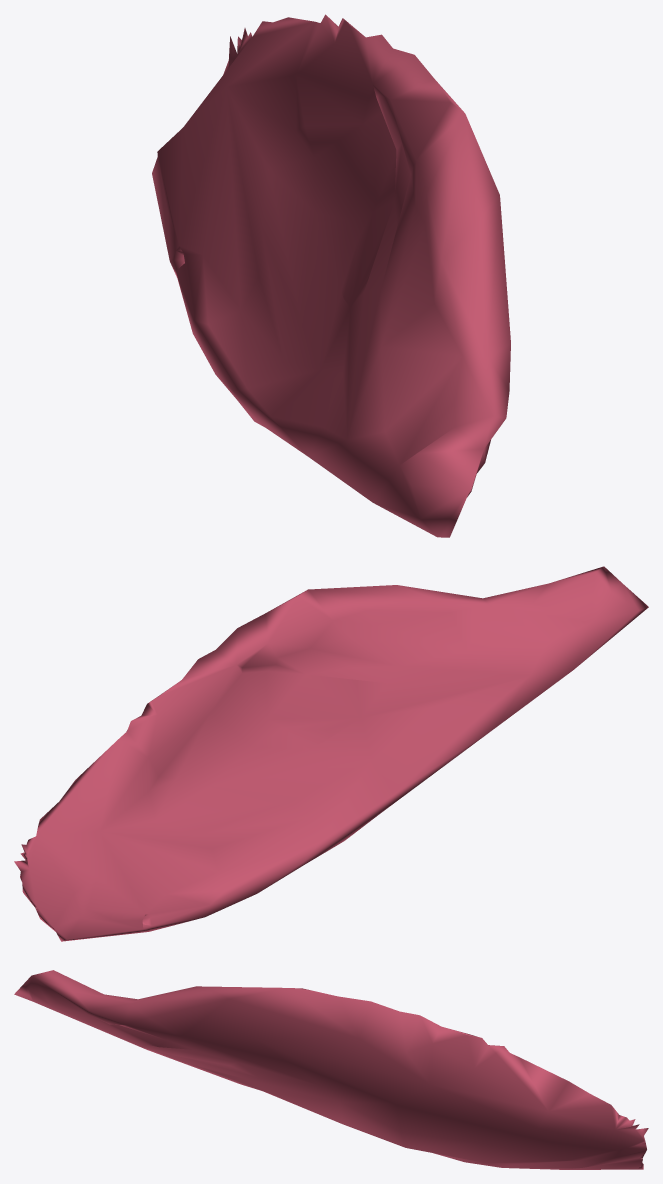
3 views of the same model, one above another, from view 1: azimuth 30°, elevation 25°; view 2: azimuth 150°, elevation 25°; view 3: azimuth 270°, elevation 25° (orthographic). The views are drawn at different scales.
Parts seen in each view (by area): view 1: 右侧小指对掌肌; view 2: 右侧小指对掌肌; view 3: 右侧小指对掌肌.
Boxes of the visible parts, x1=… form: 右侧小指对掌肌: x1=152, y1=14, x2=510, y2=537; 右侧小指对掌肌: x1=14, y1=566, x2=648, y2=941; 右侧小指对掌肌: x1=14, y1=970, x2=648, y2=1169.
Bounding box in the file's own units: 0.0272 × 0.0226 × 0.0702.
